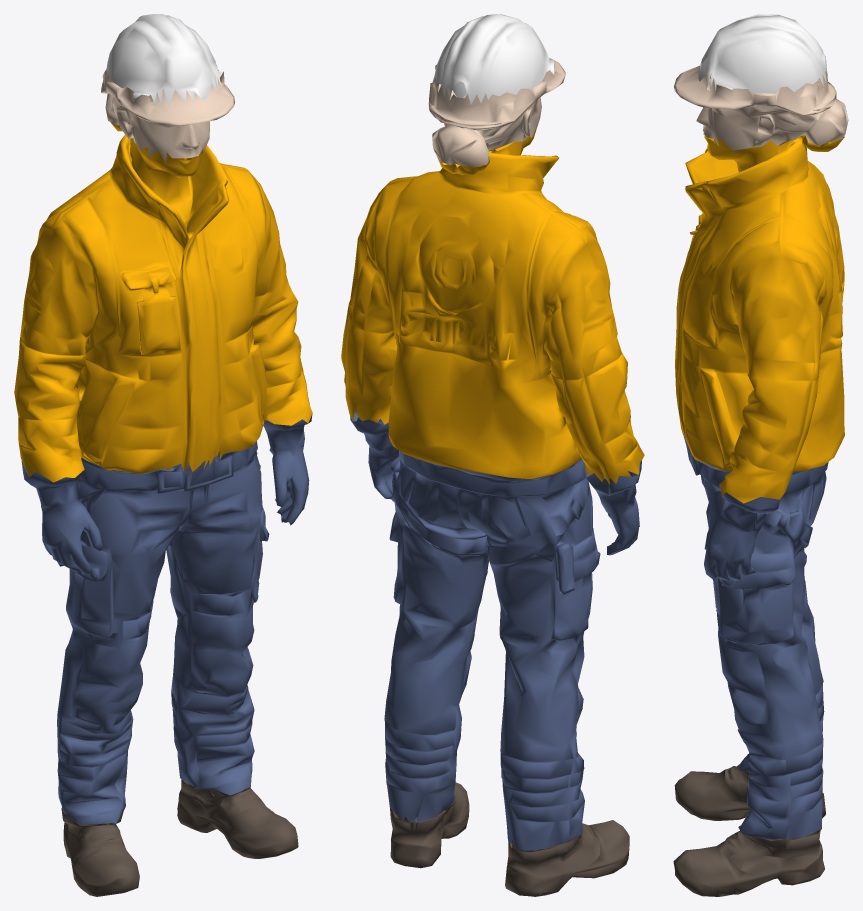
The model's file is ouvrier-femme-01.glb.
The picture shows the model from 3 angles, left to right: view 1: azimuth 30°, elevation 25°; view 2: azimuth 150°, elevation 25°; view 3: azimuth 270°, elevation 25°; orthographic projection.
Size of the model in its own units: 0.5688 by 1.62 by 0.3101.
